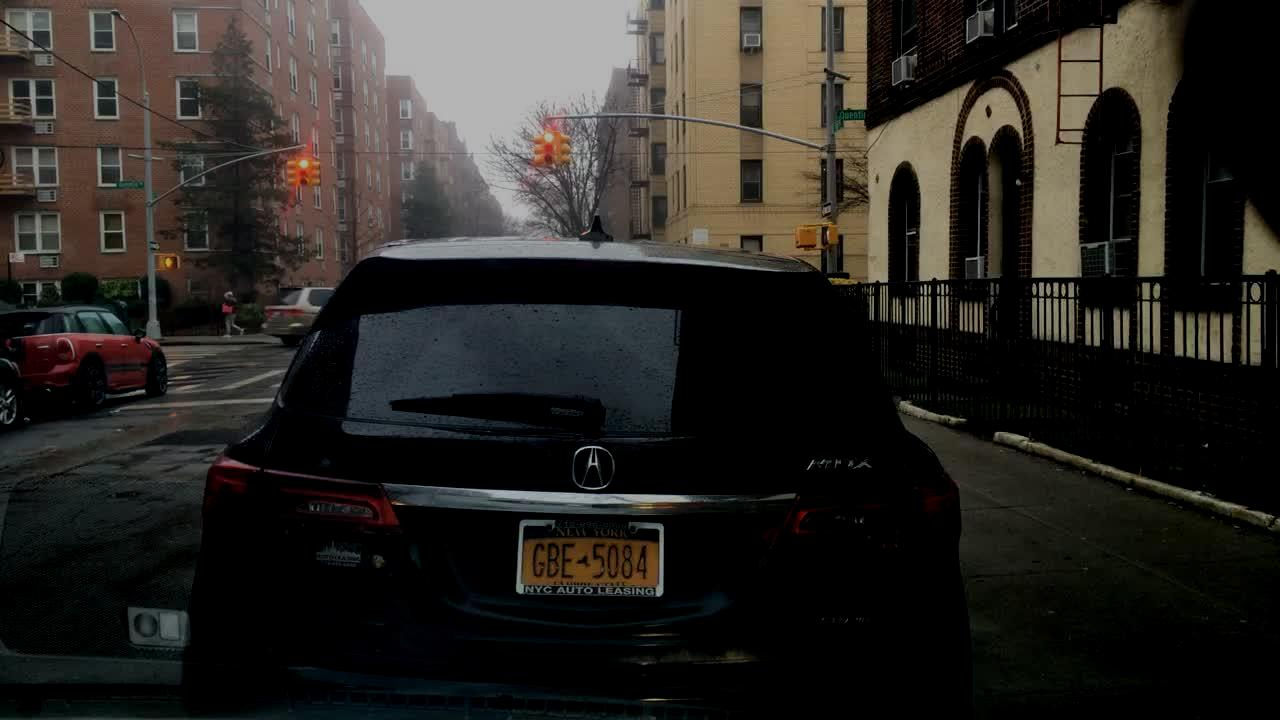acura: (561, 431, 620, 502)
